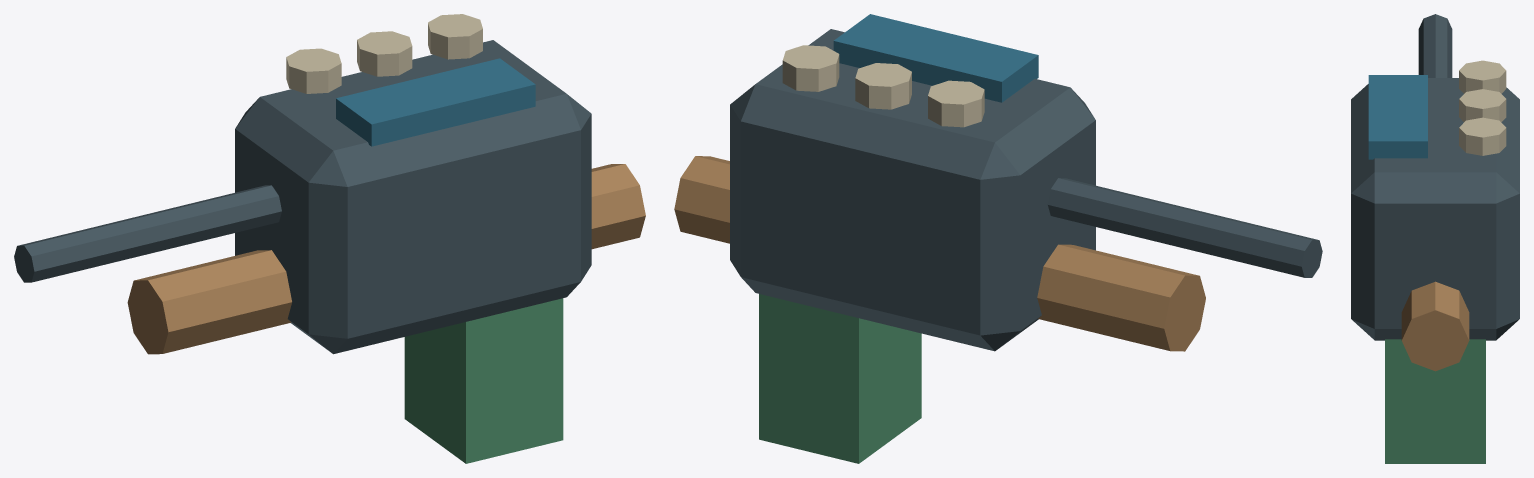
The model's file is set_plaster_float.glb.
The picture shows the model from 3 angles, left to right: view 1: azimuth 30°, elevation 25°; view 2: azimuth 150°, elevation 25°; view 3: azimuth 270°, elevation 25°; orthographic projection. The views are drawn at different scales.
Parts seen in each view (by area): view 1: set_plaster_float; view 2: set_plaster_float; view 3: set_plaster_float.
Boxes of the visible parts, x1,y1,x2,y2 form: set_plaster_float: (14, 14, 645, 463); set_plaster_float: (674, 14, 1322, 463); set_plaster_float: (1351, 14, 1519, 463).
Bounding box in the file's own units: 0.34 × 0.207 × 0.1.
